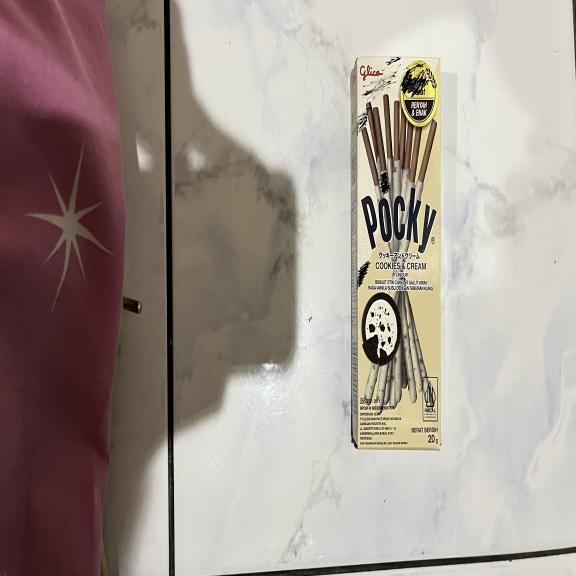Kertas: (353, 56, 444, 454)
